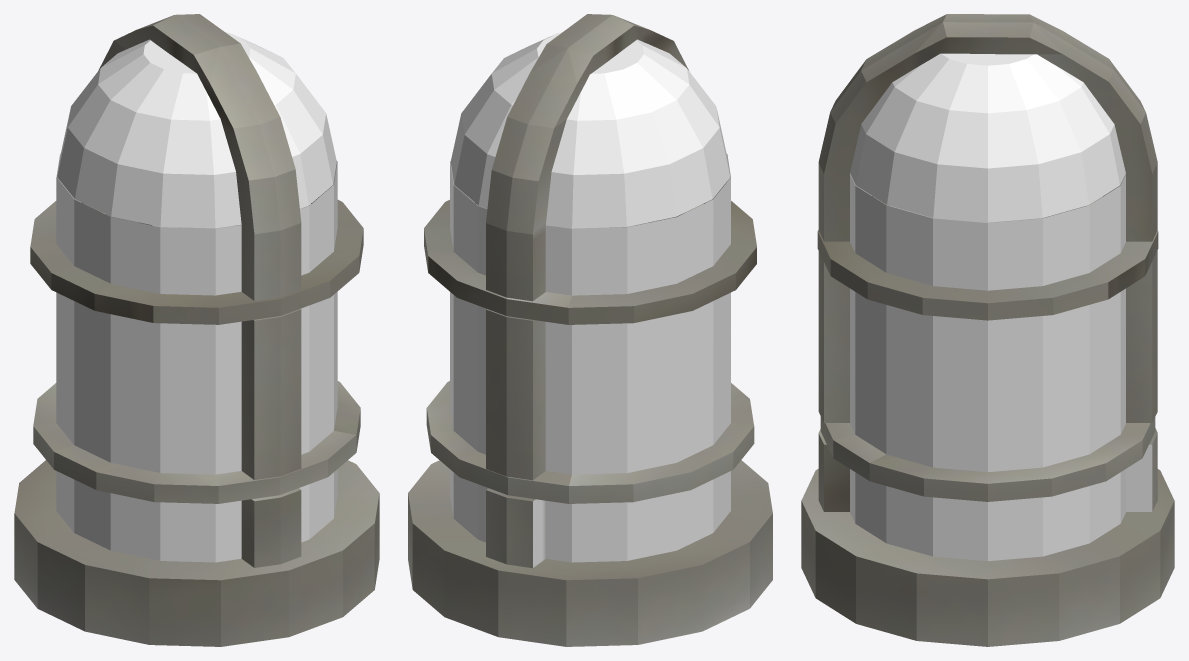
File: lamp3.obj
3 views of the same model, side by side, from view 1: azimuth 30°, elevation 25°; view 2: azimuth 150°, elevation 25°; view 3: azimuth 270°, elevation 25° (orthographic).
Parts seen in each view (by area): view 1: Cylinder; view 2: Cylinder; view 3: Cylinder.
Boxes of the visible parts, <box> form: Cylinder: <box>14,14,379,646</box>; Cylinder: <box>408,14,772,646</box>; Cylinder: <box>801,14,1174,646</box>.
Size of the model in its own units: 2 by 3.23 by 2.
